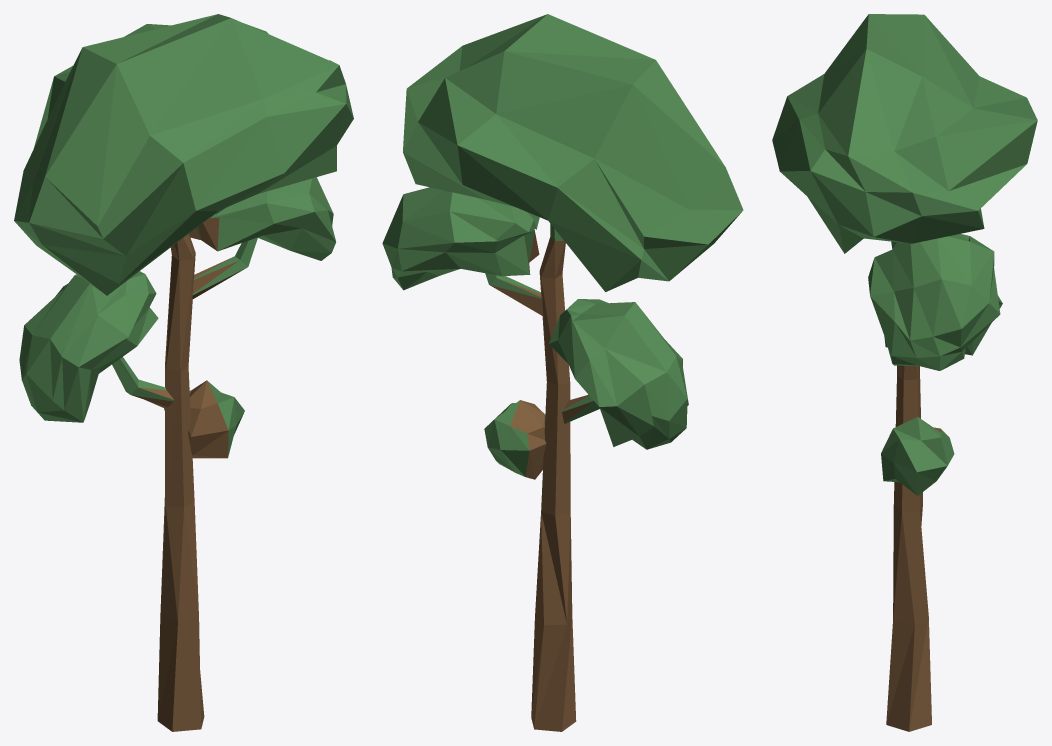
Rendered from tree3d-140.glb.
The picture shows the model from 3 angles, left to right: view 1: azimuth 30°, elevation 25°; view 2: azimuth 150°, elevation 25°; view 3: azimuth 270°, elevation 25°; orthographic projection. The views are drawn at different scales.
Parts seen in each view (by area): view 1: tree3d-140; view 2: tree3d-140; view 3: tree3d-140.
Part boxes in pixels (x1=…): tree3d-140: x1=14, y1=14, x2=353, y2=731; tree3d-140: x1=382, y1=14, x2=743, y2=731; tree3d-140: x1=772, y1=14, x2=1037, y2=731.
Size of the model in its own units: 0.4827 by 1 by 0.3511.
